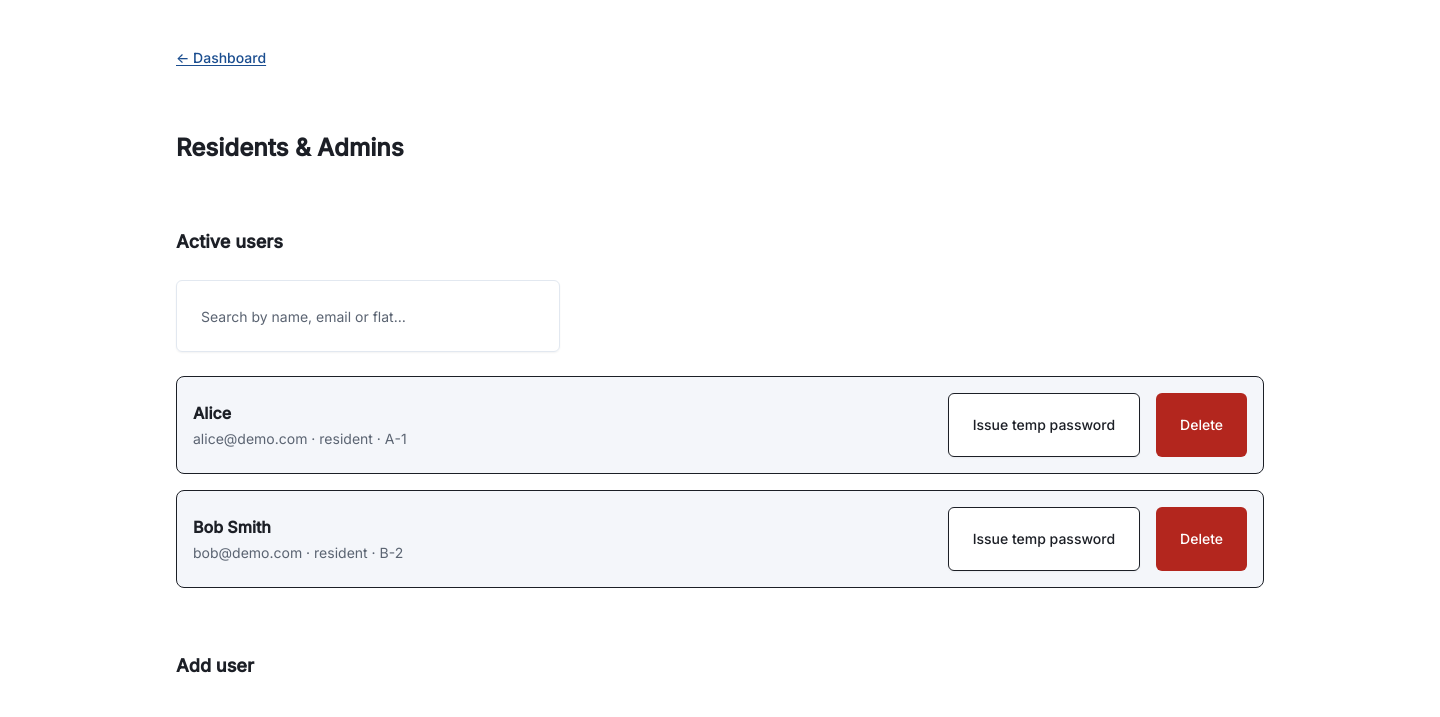
it: TenantUsers › search filters users by name
Expected: the text "Alice" is shown, [193,403,231,423]
Expected: the text "Bob Smith" is shown, [193,517,271,537]
Type "alice" into the field named "search users". click: (368, 316)
box: [176,280,560,352]
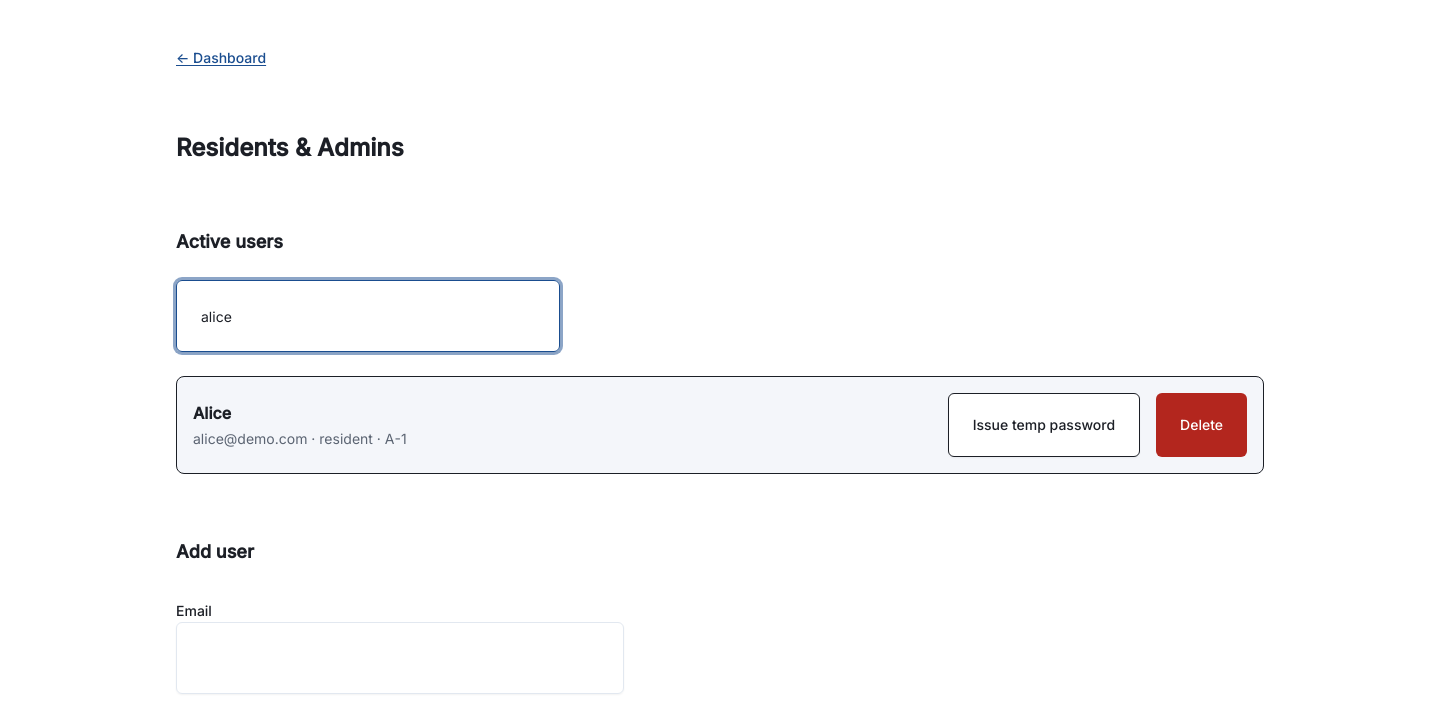
Expected: the text "Alice" is shown, [193,403,231,423]
Now the text "Bob Smith" is gone
